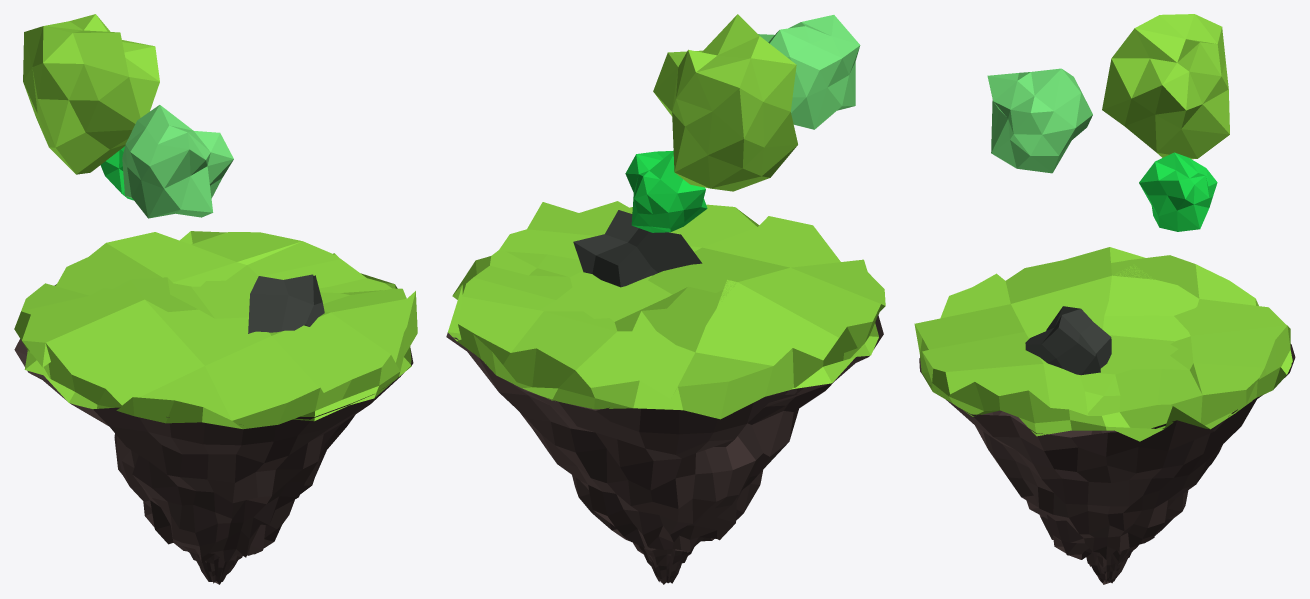
Rendered from tree123.gltf.
The picture shows the model from 3 angles, left to right: view 1: azimuth 30°, elevation 25°; view 2: azimuth 150°, elevation 25°; view 3: azimuth 270°, elevation 25°; orthographic projection. The views are drawn at different scales.
Visible parts, largest first — view 1: Cylinder.002, Cylinder.001, Icosphere.001, Icosphere, Cube.001, Icosphere.003; view 2: Cylinder.002, Cylinder.001, Icosphere.001, Icosphere, Cube.001, Icosphere.003; view 3: Cylinder.002, Cylinder.001, Icosphere.001, Icosphere, Icosphere.003, Cube.001.
Boxes of the visible parts, x1,y1,x2,y2 form: Cylinder.002: (14, 231, 417, 429); Cylinder.001: (14, 339, 413, 584); Icosphere.001: (23, 14, 159, 174); Icosphere: (122, 105, 233, 218); Cube.001: (248, 274, 324, 333); Icosphere.003: (100, 146, 133, 200); Cylinder.002: (448, 201, 885, 419); Cylinder.001: (446, 315, 883, 584); Icosphere.001: (653, 14, 797, 191); Icosphere: (758, 15, 860, 129); Cube.001: (573, 210, 702, 287); Icosphere.003: (625, 150, 707, 232); Cylinder.002: (914, 247, 1292, 441); Cylinder.001: (919, 344, 1295, 584); Icosphere.001: (1102, 14, 1229, 159); Icosphere: (987, 68, 1092, 173); Icosphere.003: (1139, 152, 1217, 231); Cube.001: (1025, 306, 1111, 375).
Bounding box in the file's own units: 6.19 × 9.37 × 6.23.
